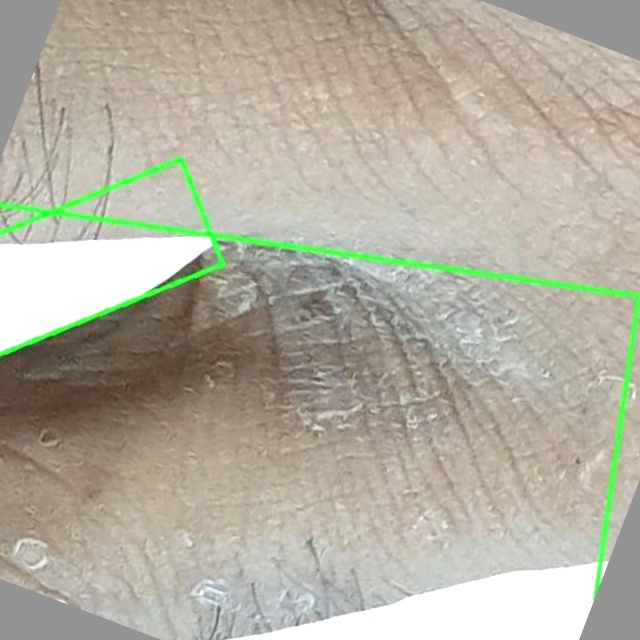Scabies: (0, 221, 638, 639), (0, 160, 231, 375)
